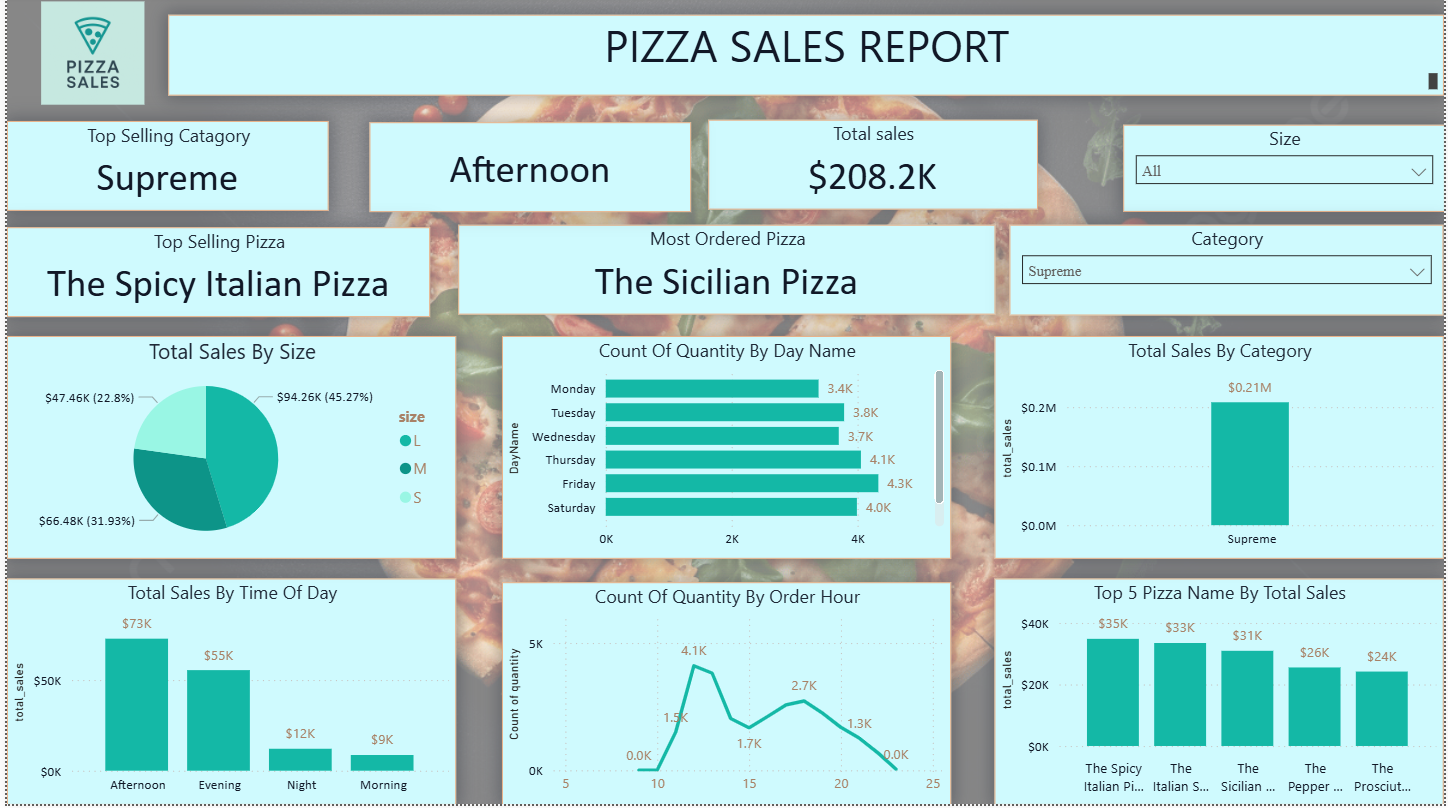

Layout of this report page (visuals, bound fields, positions):
{"tool":"powerbi","page":{"name":"Pizza Sales Report","canvas":[1280,720],"ordinal":0},"visuals":[{"type":"card","title":"Total sales","fields":{"Values":["order_details.total_sales"]},"box":[624.5,110.4,293.3,79.8],"z":0},{"type":"lineChart","title":"Count Of Quantity By Order Hour","fields":{"Category":["orders.OrderHour"],"Y":["CountNonNull(orders.quantity)"]},"box":[440.5,521.6,400,198.6],"z":1000},{"type":"barChart","title":"Count Of Quantity By Day Name","fields":{"Category":["orders.DayName"],"Y":["CountNonNull(orders.quantity)"]},"box":[440.5,302.7,400,198.6],"z":2000},{"type":"clusteredColumnChart","title":"Top 5 Pizza Name By Total Sales","fields":{"Category":["pizza_types.name"],"Y":["order_details.total_sales"]},"box":[879.7,518.9,400,201.4],"z":3000},{"type":"columnChart","title":"Total Sales By Category","fields":{"Category":["pizza_types.category"],"Y":["order_details.total_sales"]},"box":[879.7,302.7,400,198.6],"z":4000},{"type":"clusteredColumnChart","title":"Total Sales By Time Of Day","fields":{"Y":["order_details.total_sales"],"Category":["orders.TimeOfDay"]},"box":[0,518.9,400,201.4],"z":5000},{"type":"card","title":"Most Ordered Pizza ","fields":{"Values":["pizza_types.MostOrderedPizzaName"]},"box":[401.4,204.1,478.4,79.7],"z":6000},{"type":"card","title":"Top Time Of Day","fields":{"Values":["orders.TopTimeOfDay"]},"box":[323,112.2,286.5,79.7],"z":7000},{"type":"card","title":"Top Selling Catagory","fields":{"Values":["pizza_types.TopSellingCategory"]},"box":[0,110.8,286.5,79.7],"z":8000},{"type":"card","title":"Top Selling Pizza","fields":{"Values":["pizza_types.TopSellingPizza"]},"box":[0,205.4,377,79.7],"z":9000},{"type":"pieChart","title":"Total Sales By Size","fields":{"Y":["order_details.total_sales"],"Category":["pizzas.size"]},"box":[0,302.7,400,198.6],"z":10000},{"type":"slicer","title":"Size","fields":{"Values":["pizzas.size"]},"box":[993.6,115.1,286.4,77.9],"z":11000},{"type":"textbox","title":"PIZZA SALES REPORT","box":[143.6,17.2,1136.2,72.4],"z":12000},{"type":"slicer","title":"Category","fields":{"Values":["pizza_types.category"]},"box":[893.2,204.1,386.5,81.1],"z":13000},{"type":"image","box":[0,0,152.1,101.8],"z":14000}]}

Visuals, with their boxes in screenshot pixels (x1, y1, x2, y2), scaled from the page's 1280x720 canvas onto the 1448x808 screenshot:
"Total sales" card: box=[706, 124, 1038, 213]
"Count Of Quantity By Order Hour" lineChart: box=[498, 585, 951, 807]
"Count Of Quantity By Day Name" barChart: box=[498, 340, 951, 563]
"Top 5 Pizza Name By Total Sales" clusteredColumnChart: box=[995, 582, 1447, 807]
"Total Sales By Category" columnChart: box=[995, 340, 1447, 563]
"Total Sales By Time Of Day" clusteredColumnChart: box=[0, 582, 453, 807]
"Most Ordered Pizza " card: box=[454, 229, 995, 318]
"Top Time Of Day" card: box=[365, 126, 689, 215]
"Top Selling Catagory" card: box=[0, 124, 324, 214]
"Top Selling Pizza" card: box=[0, 231, 426, 320]
"Total Sales By Size" pieChart: box=[0, 340, 453, 563]
"Size" slicer: box=[1124, 129, 1447, 217]
"PIZZA SALES REPORT" textbox: box=[162, 19, 1447, 101]
"Category" slicer: box=[1010, 229, 1447, 320]
image: box=[0, 0, 172, 114]
